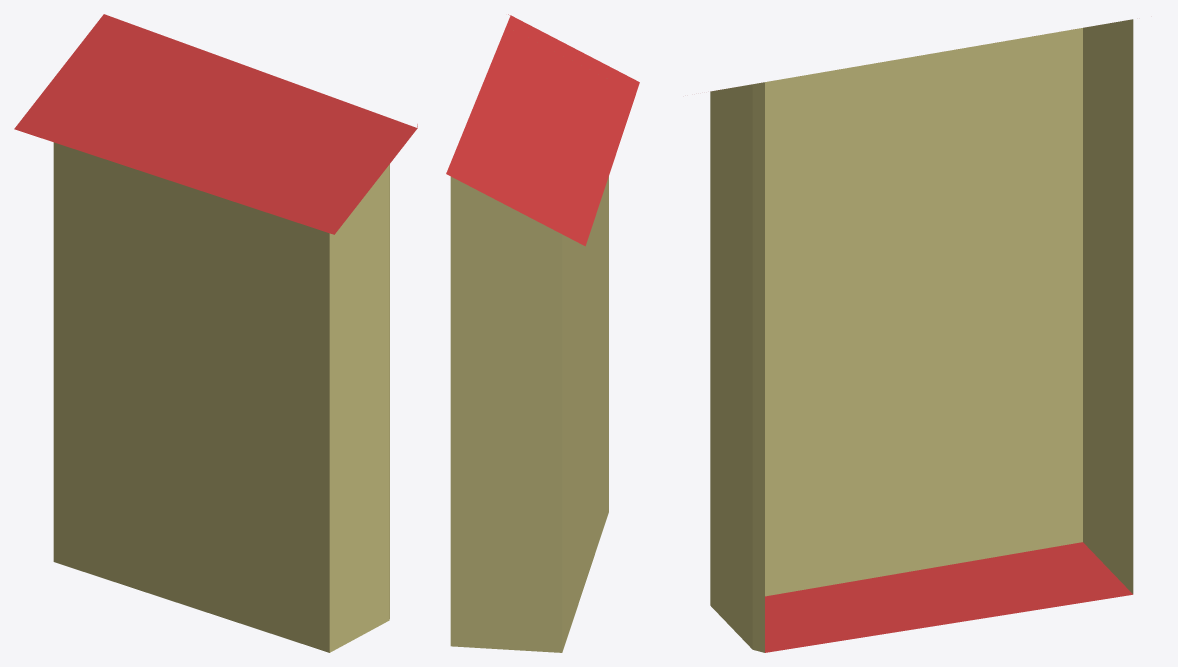
The picture shows the model from 3 angles, left to right: view 1: azimuth 30°, elevation 25°; view 2: azimuth 150°, elevation 25°; view 3: azimuth 270°, elevation 25°; orthographic projection. The views are drawn at different scales.
Size of the model in its own units: 4.97 by 7.62 by 9.76.
